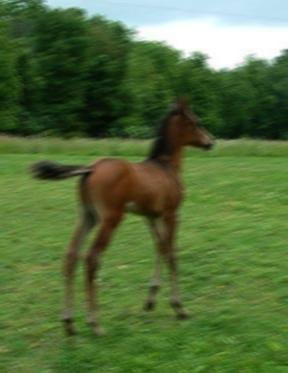horse: (27, 95, 215, 337)
